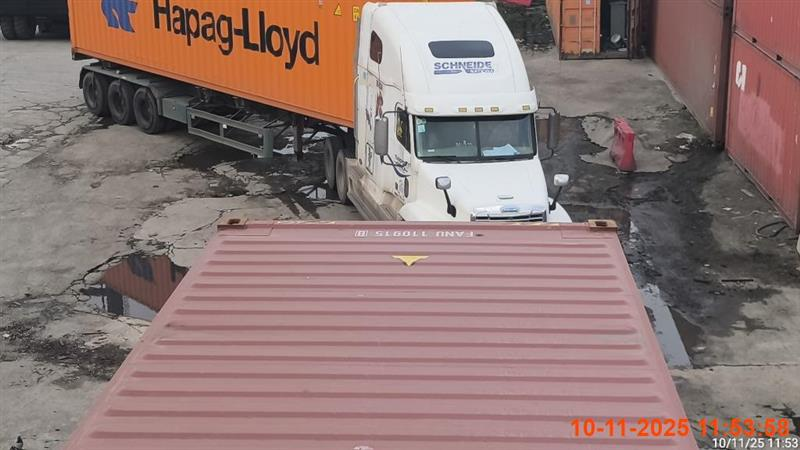hole: (65, 218, 698, 443), (66, 1, 564, 222)
